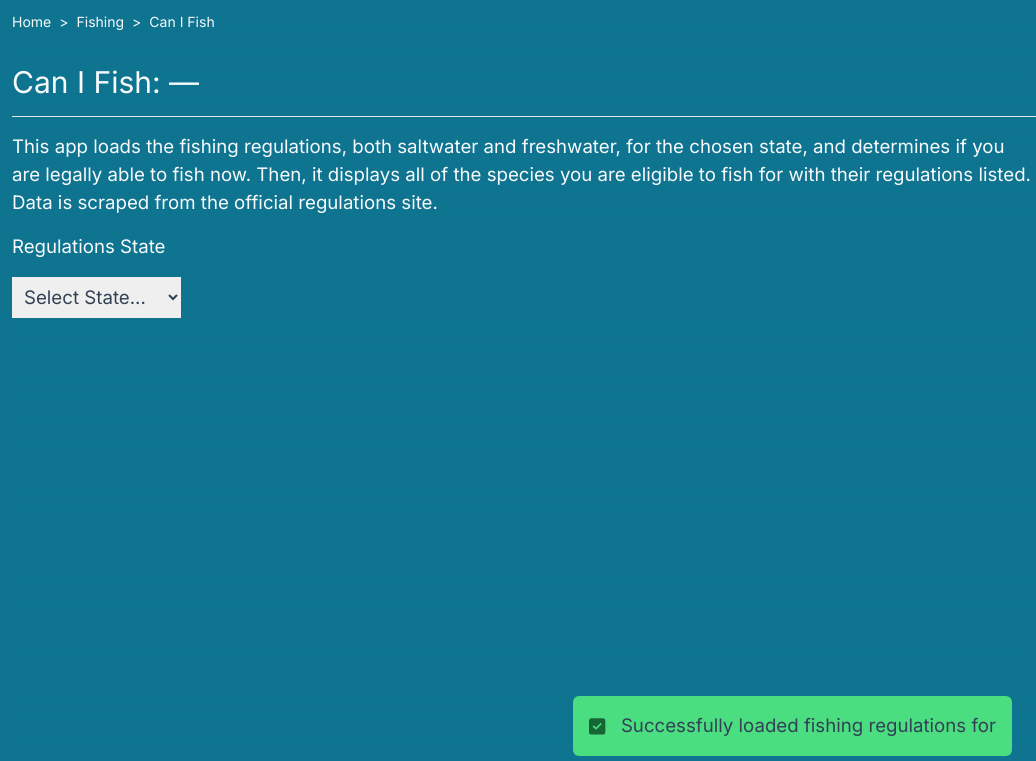
Test: CanIFish › renders when loading MA regulations
Select "Massachusetts" in the dropdown at (96, 298), box [12,277,181,318]
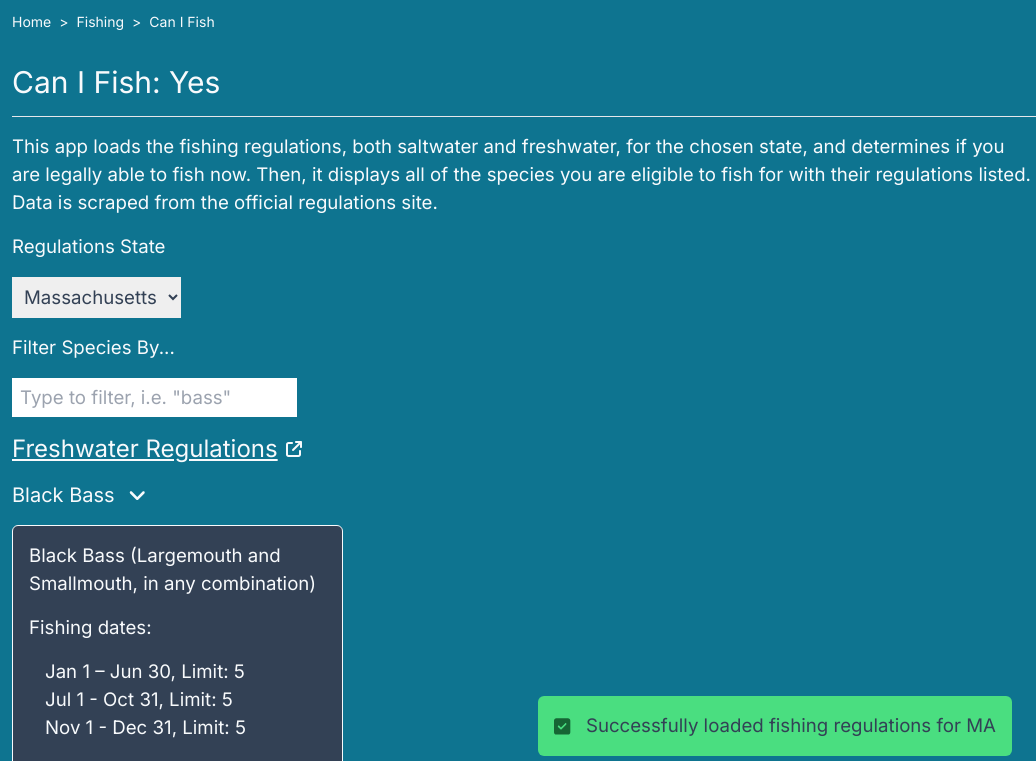
Now the text "Successfully loaded fishing regulations for MA" is shown, box [538,696,1012,756]
